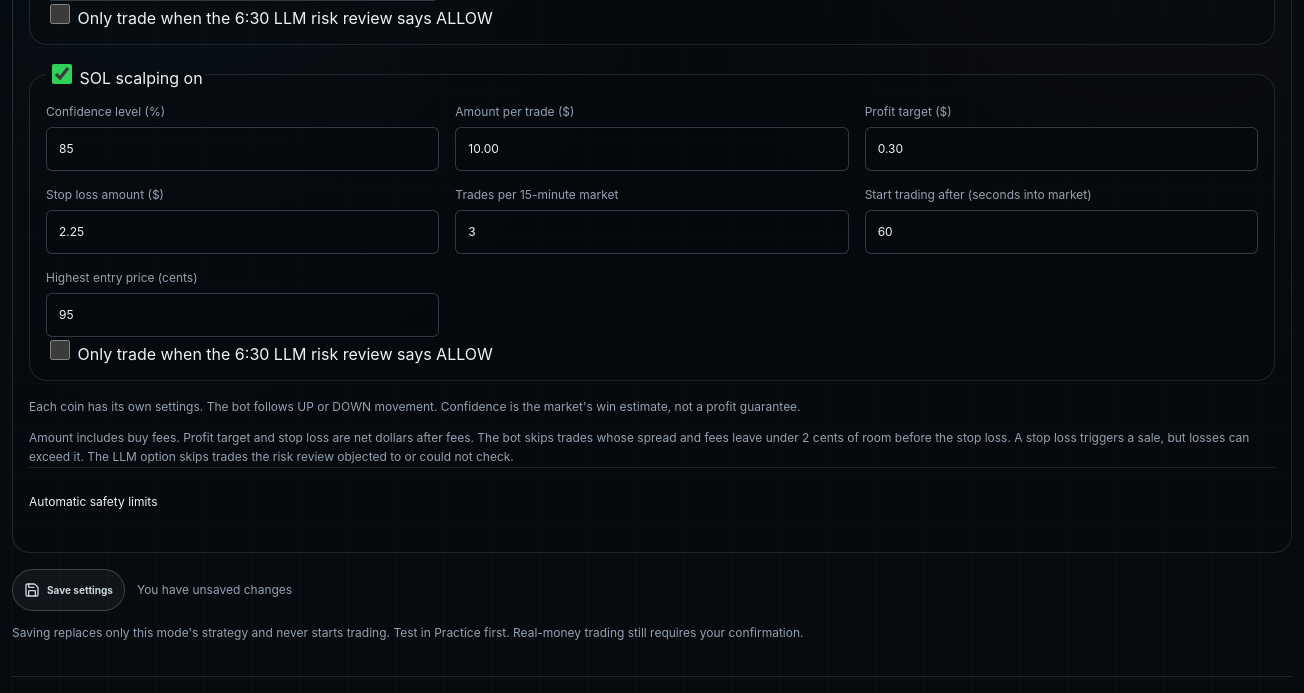
Trading tab › saves separate BTC and SOL rules, including the SOL price cap, window and LLM gate
(page scrolled)
Replace the text in the field named "SOL Highest entry price (cents)" with "90" at x=243, y=315, box [46,293,439,337]
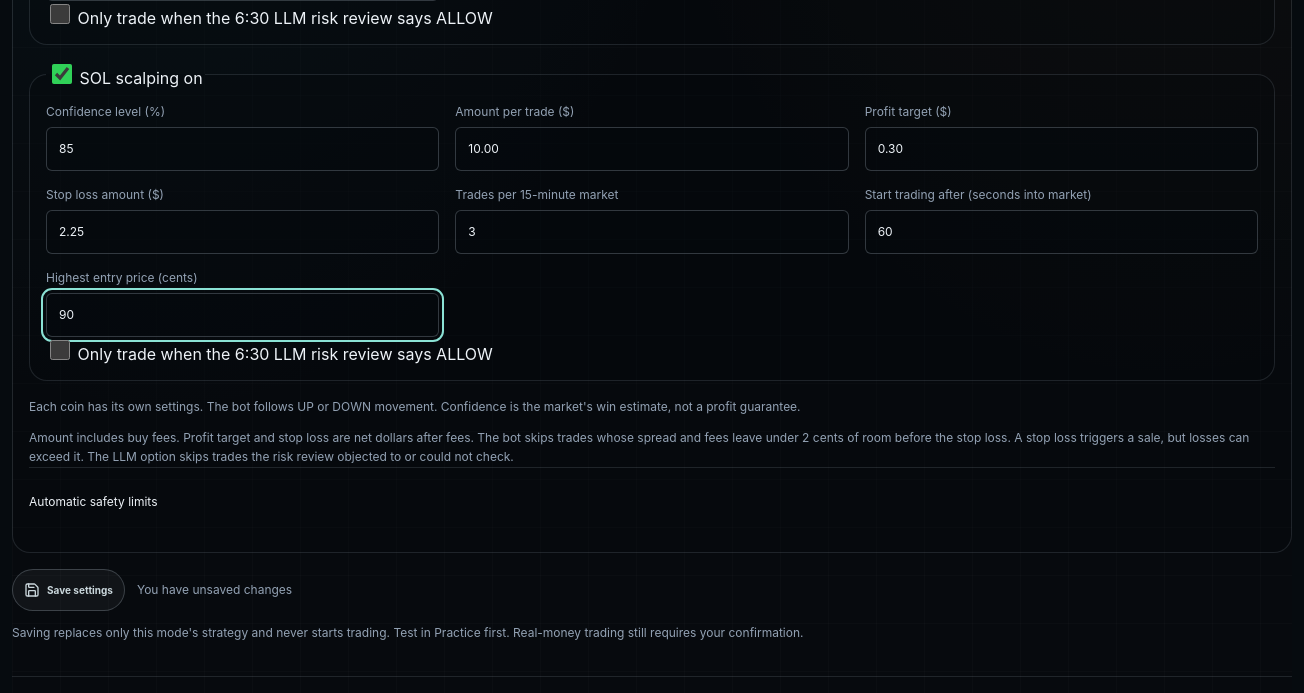
Replace the text in the field named "SOL Start trading after (seconds into market)" with "600" at x=1061, y=232, box [865,210,1258,254]
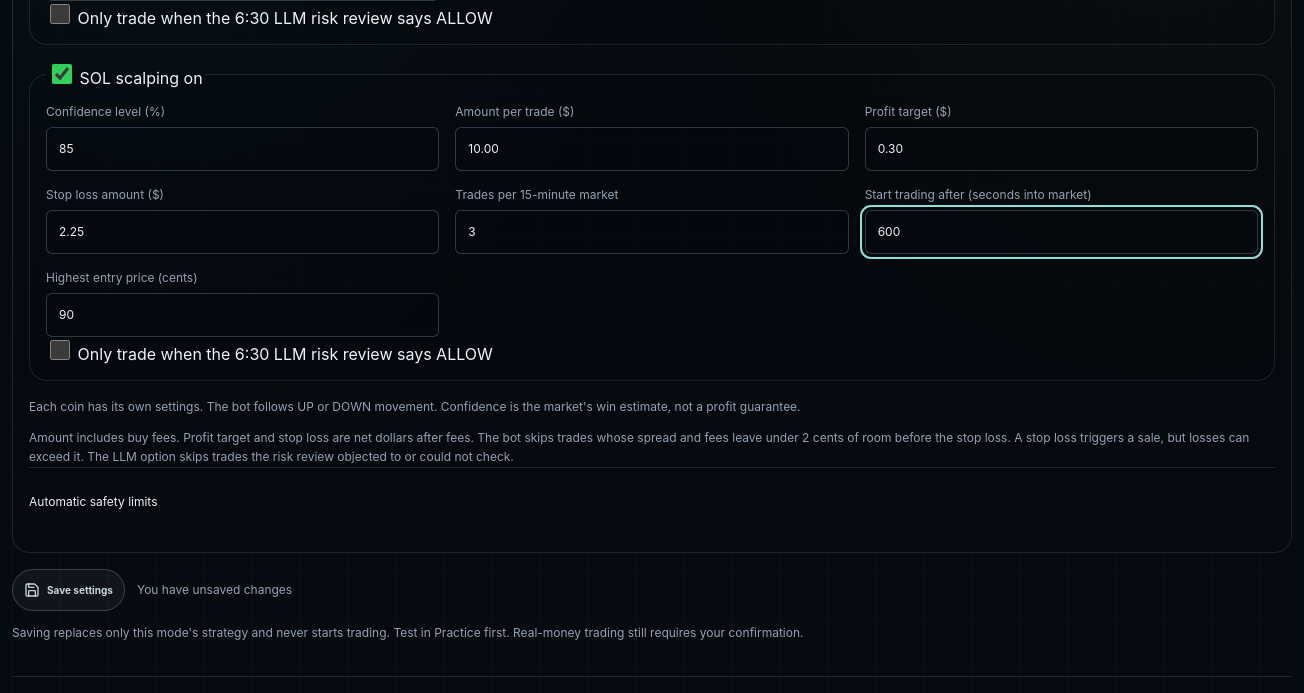
Click the checkbox named "SOL LLM must approve".
click(60, 350)  # box [50,340,70,360]
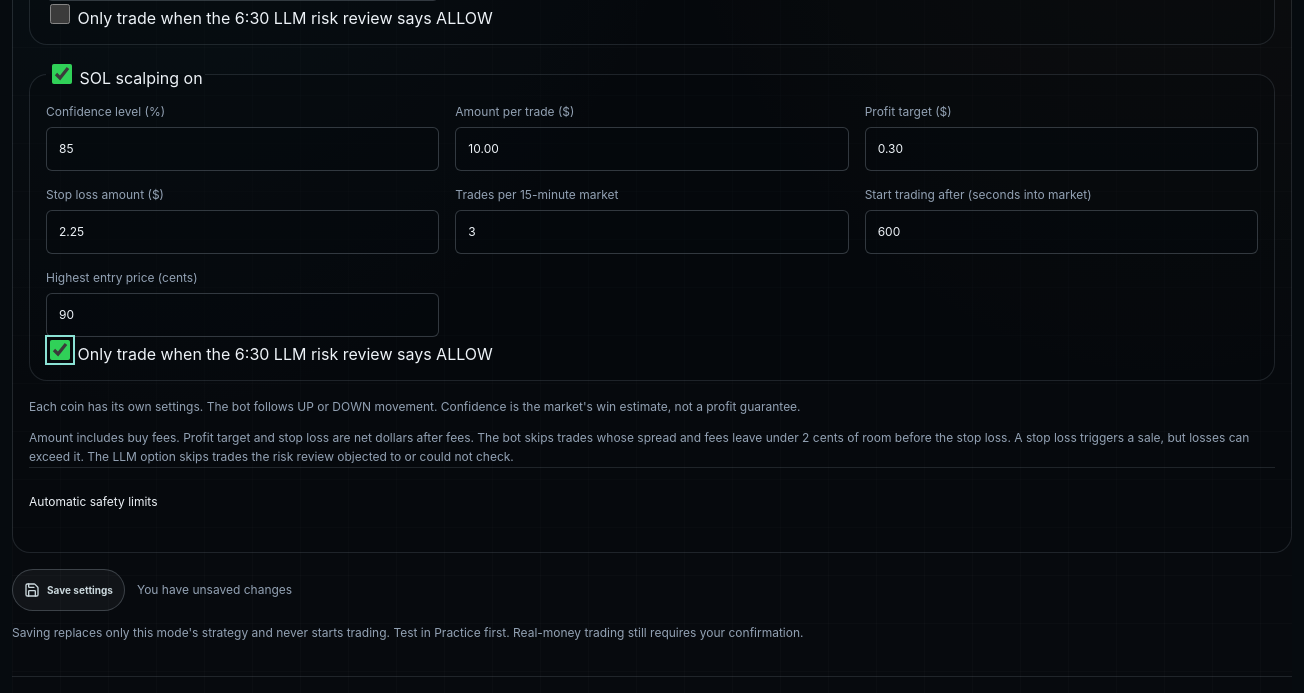
Click the button "Save settings".
click(68, 590)  # box [12,568,125,610]
(page scrolled)
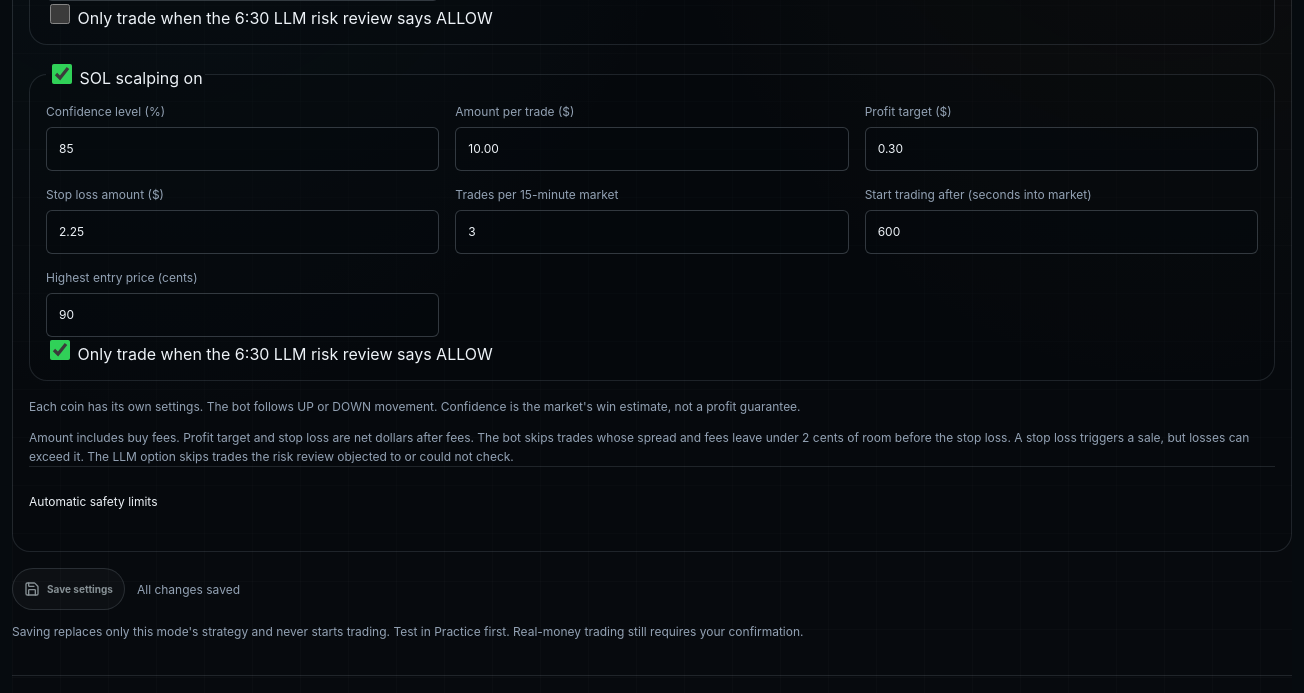
Result: the checkbox named "SOL LLM must approve" is checked at [50,340,70,360]
Result: the text "All changes saved" is shown at [137,580,240,599]
Click the checkbox named "Trade SOL".
click(62, 74)  # box [52,64,72,84]
(page scrolled)
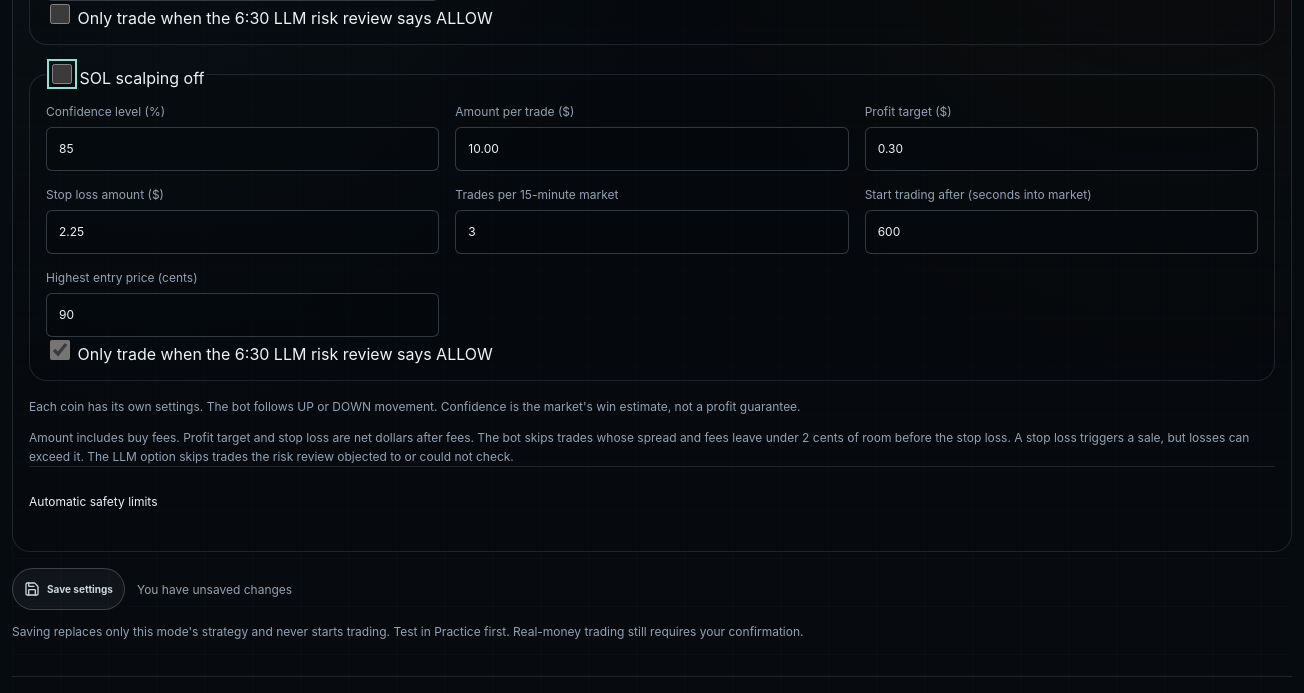
Expected: the field named "SOL Highest entry price (cents)" is disabled, [46,293,439,337]
Click the button "Save settings".
click(68, 589)  # box [12,568,125,610]
(page scrolled)
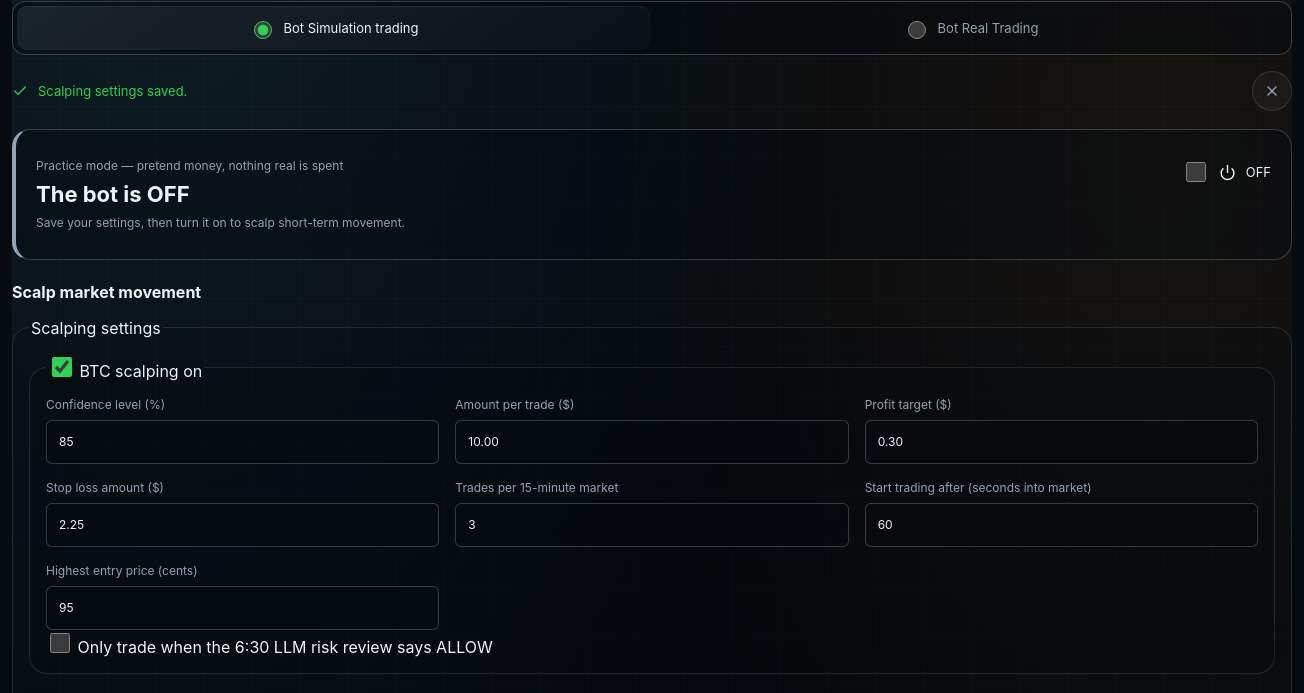
Result: the text "Scalping settings saved." is shown at [12,71,1292,111]
